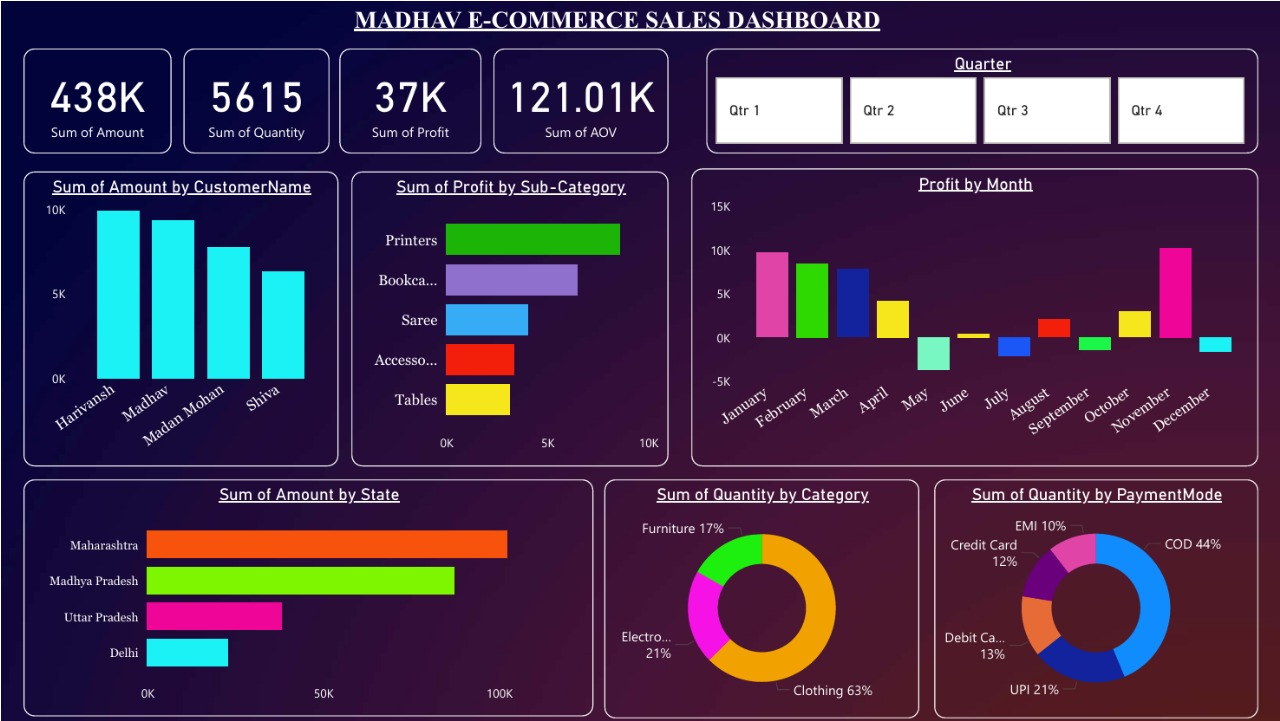

What the dashboard file says about the page in this screenshot:
{"tool":"powerbi","page":{"name":"Page 1","canvas":[1280,720],"ordinal":0},"visuals":[{"type":"textbox","box":[280,0,672.2,60],"z":0},{"type":"clusteredColumnChart","title":"Profit by Month","fields":{"Category":["Orders.Order Date.Variation.Date Hierarchy.Month"],"Y":["Details.Profit"]},"box":[690,166.7,566.7,298.3],"z":1000},{"type":"barChart","fields":{"Category":["Details.Sub-Category"],"Y":["Details.Profit"]},"box":[350,170,316.7,295],"z":2000},{"type":"donutChart","fields":{"Category":["Details.Category"],"Y":["Details.Quantity"]},"box":[603.3,478.3,315,238.3],"z":3000},{"type":"donutChart","fields":{"Category":["Details.PaymentMode","Details.Category"],"Y":["Details.Quantity"]},"box":[933.3,478.3,323.3,238.3],"z":4000},{"type":"card","fields":{"Values":["Details.Amount"]},"box":[21.7,46.7,148.3,105],"z":5000},{"type":"card","fields":{"Values":["Details.Quantity"]},"box":[181.7,46.7,146.7,105],"z":6000},{"type":"card","fields":{"Values":["Details.Profit"]},"box":[338.3,46.7,141.7,105],"z":7000},{"type":"card","fields":{"Values":["Details.aov"]},"box":[491.7,46.7,175,105],"z":8000},{"type":"barChart","fields":{"Category":["Orders.State"],"Y":["Details.Amount"]},"box":[21.7,478.3,570,236.7],"z":9000},{"type":"columnChart","fields":{"Category":["Orders.CustomerName"],"Y":["Details.Amount"]},"box":[21.7,170,315,295],"z":10000},{"type":"advancedSlicerVisual","fields":{"Values":["Orders.Order Date.Variation.Date Hierarchy.Quarter"]},"box":[705,46.7,551.7,105],"z":11000}]}

Visuals, with their boxes in screenshot pixels (x1, y1, x2, y2), scaled from the page's 1280x720 canvas onto the 1280x721 screenshot:
textbox: 280, 0, 952, 60
"Profit by Month" clusteredColumnChart: 690, 167, 1257, 466
barChart - Details.Sub-Category x Details.Profit: 350, 170, 667, 466
donutChart - Details.Category x Details.Quantity: 603, 479, 918, 718
donutChart - Details.PaymentMode x Details.Category: 933, 479, 1257, 718
card - Details.Amount: 22, 47, 170, 152
card - Details.Quantity: 182, 47, 328, 152
card - Details.Profit: 338, 47, 480, 152
card - Details.aov: 492, 47, 667, 152
barChart - Orders.State x Details.Amount: 22, 479, 592, 716
columnChart - Orders.CustomerName x Details.Amount: 22, 170, 337, 466
advancedSlicerVisual - Orders.Order Date.Variation.Date Hierarchy.Quarter: 705, 47, 1257, 152
